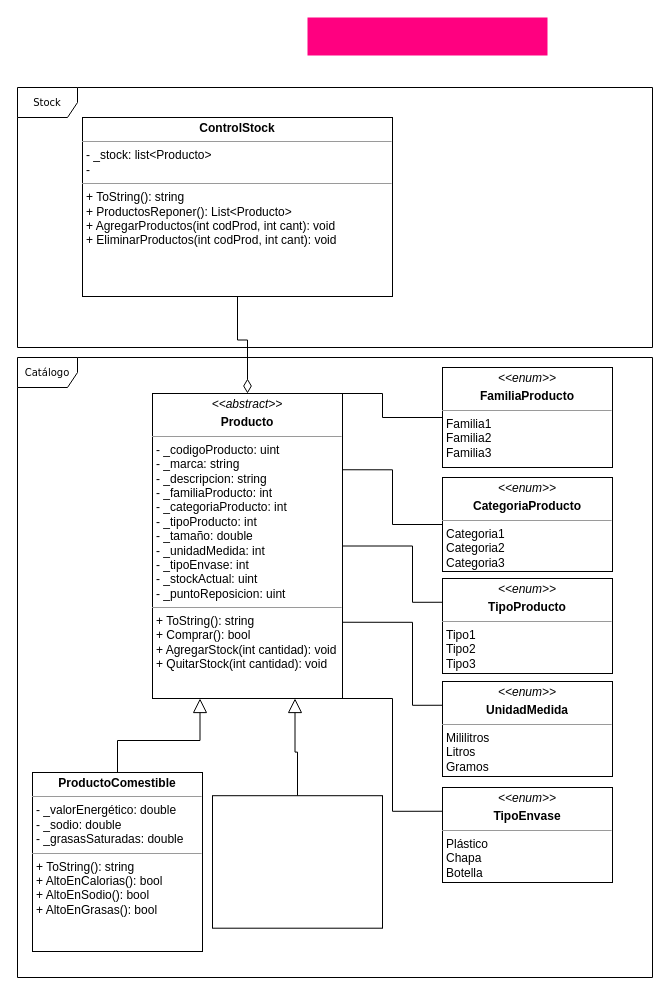
This 670x995 diagram has some shape labels left out. Here are the shapes that lost their labels. From the top down, the centre of each, then its label:
At pixel 427 36: "Ejercicio ALMACEN".
At pixel 297 861: "ProductoLimpieza - _materiales: string + ToString(): string".
